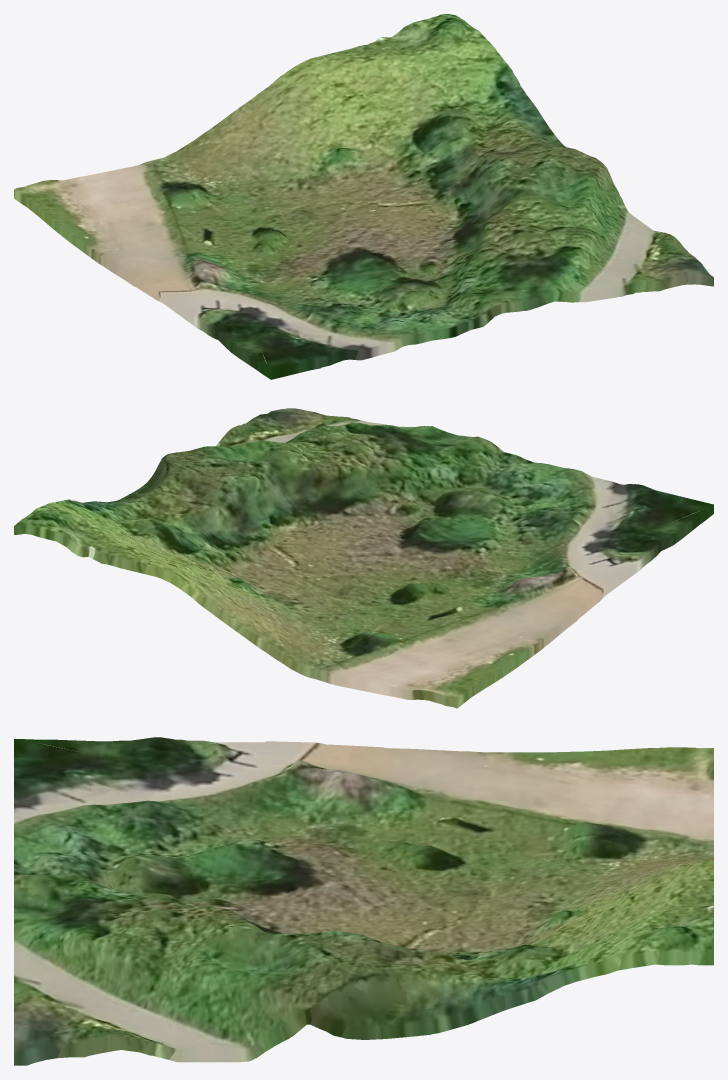
The model's file is z20-167559-405174-h0-yup-uvflip-v3-world.glb.
3 views of the same model, one above another, from view 1: azimuth 30°, elevation 25°; view 2: azimuth 150°, elevation 25°; view 3: azimuth 270°, elevation 25° (orthographic). The views are drawn at different scales.
Bounding box in the file's own units: 30.16 × 5.88 × 30.32.
1 material, 1 textured.
